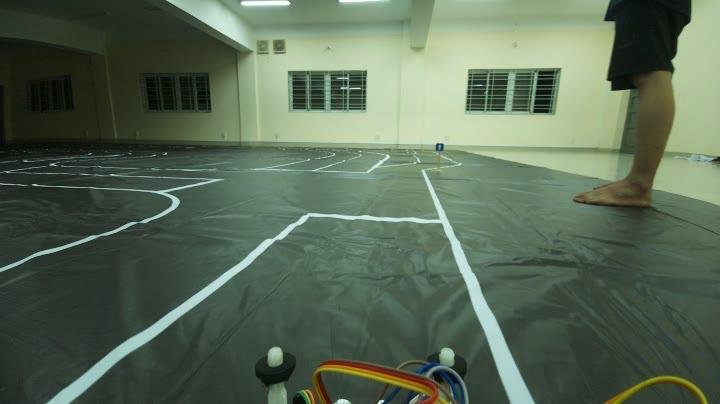onewayroad: (434, 141, 444, 155)
